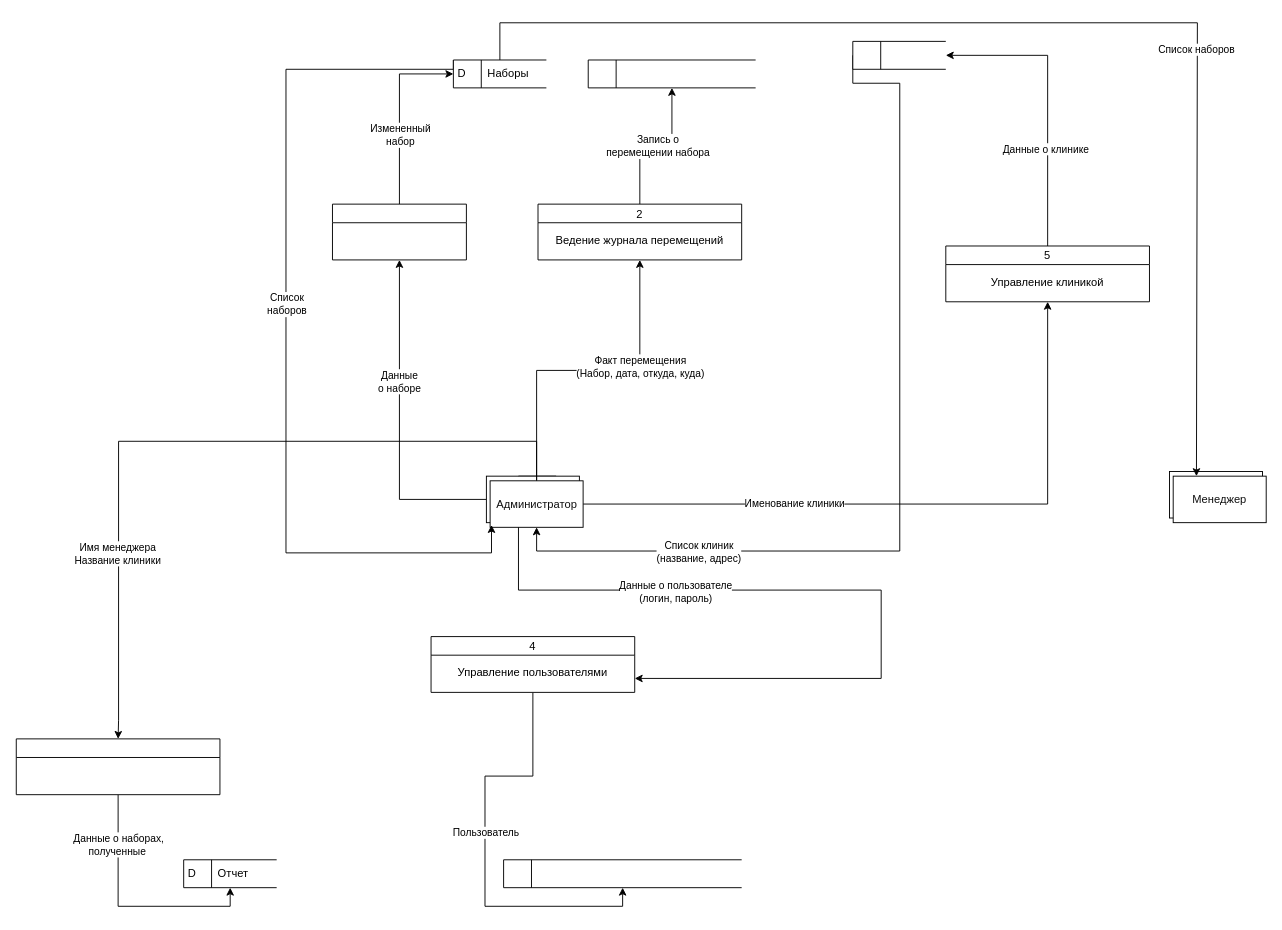
The diagram is 1282 pixels wide and 930 high, and some of its shapes have lost their labels. Each missing label, with the centre of its shape:
"1 Управление набором" goes at point 399,231.
"3 Генерация отчета" goes at point 117,766.
"D Журнал перемещений" goes at point 671,73.
"D Зарегистрированные пользователи" goes at point 622,873.
"D Клиники" goes at point 899,54.
